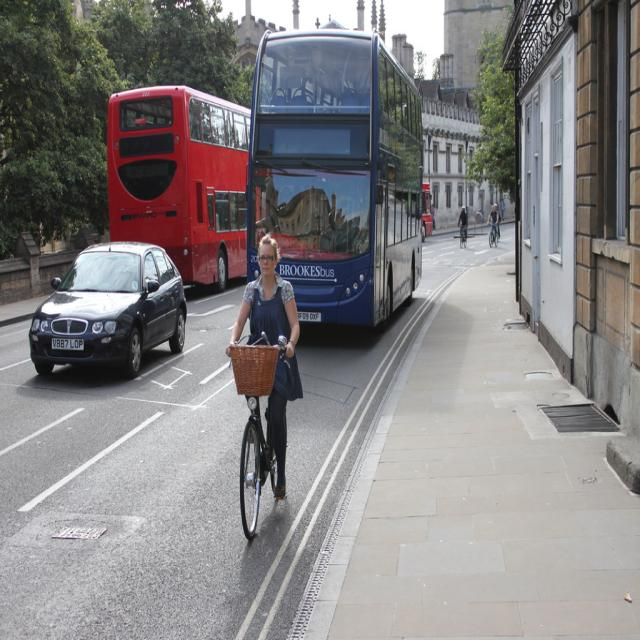car: (25, 237, 188, 382)
